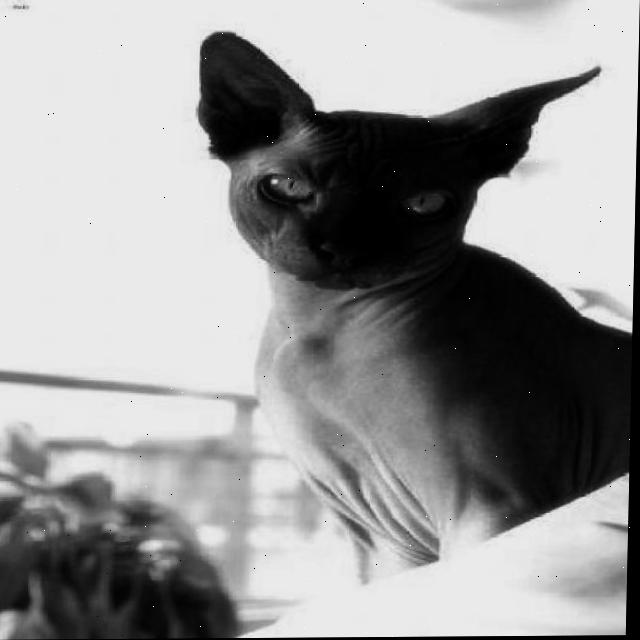Cat: (184, 27, 638, 570)
